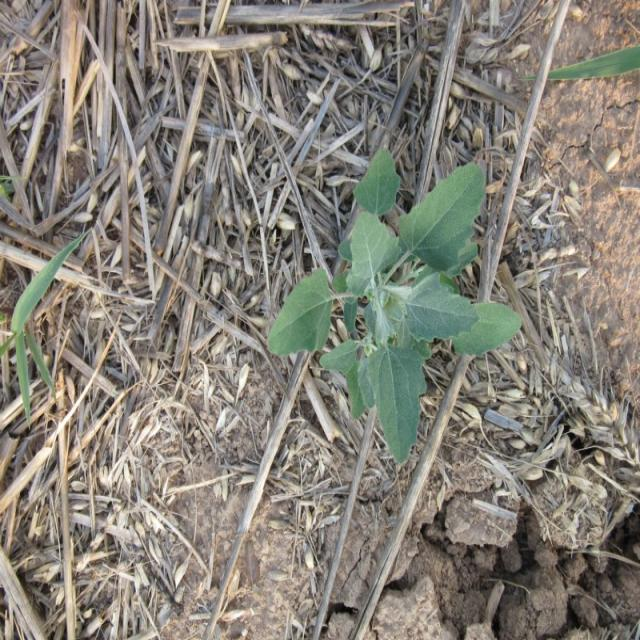ca: (268, 152, 521, 464)
